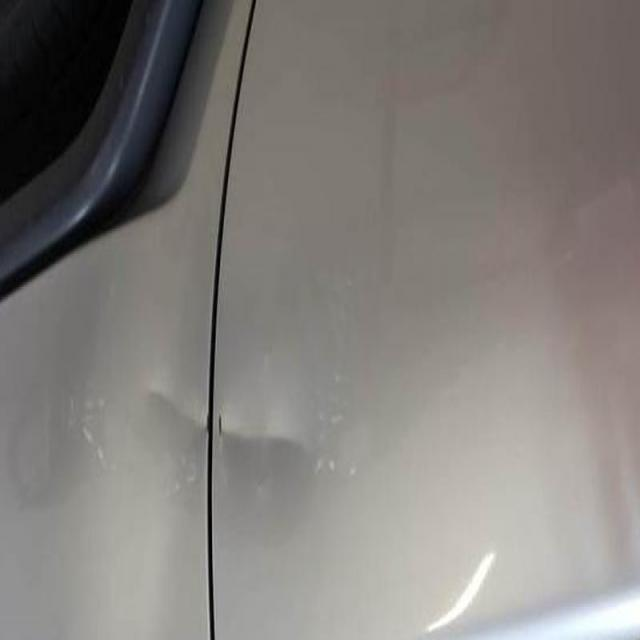dent: (116, 368, 320, 479)
